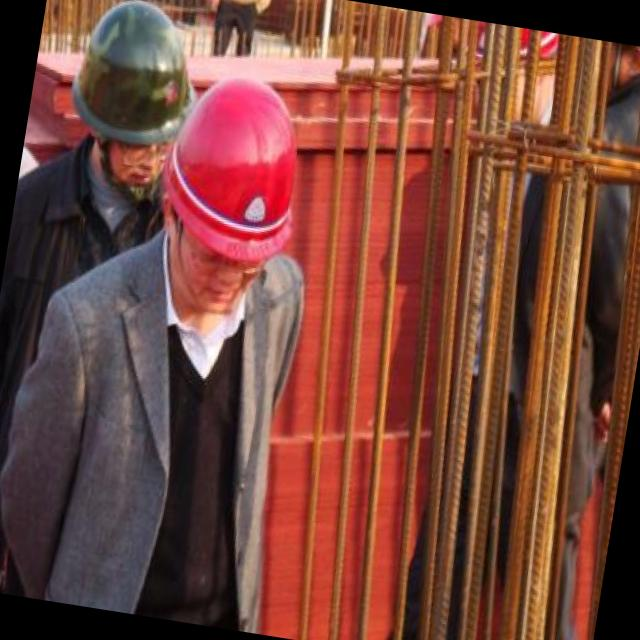helmet: (140, 58, 314, 326), (56, 0, 207, 195), (409, 13, 564, 144)
